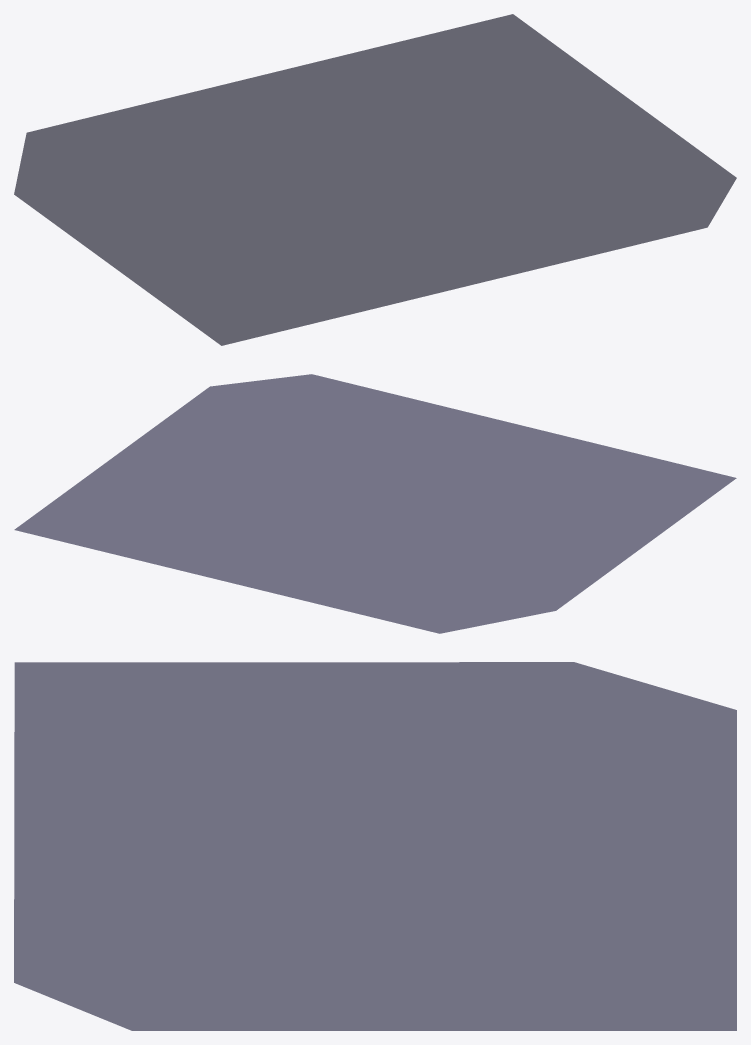
3 renders of one model, top to bottom at view 1: azimuth 30°, elevation 25°; view 2: azimuth 150°, elevation 25°; view 3: azimuth 270°, elevation 25°, orthographic. The views are drawn at different scales.
Parts seen in each view (by area): view 1: Joint_0_Object_0; view 2: Joint_0_Object_0; view 3: Joint_0_Object_0.
Boxes of the visible parts, <box> form: Joint_0_Object_0: <box>14,14,736,345</box>; Joint_0_Object_0: <box>14,374,736,633</box>; Joint_0_Object_0: <box>14,662,736,1030</box>.
Bounding box in the file's own units: 3690 × 0 × 3057.
Materials: 1 (1 with a texture image).
